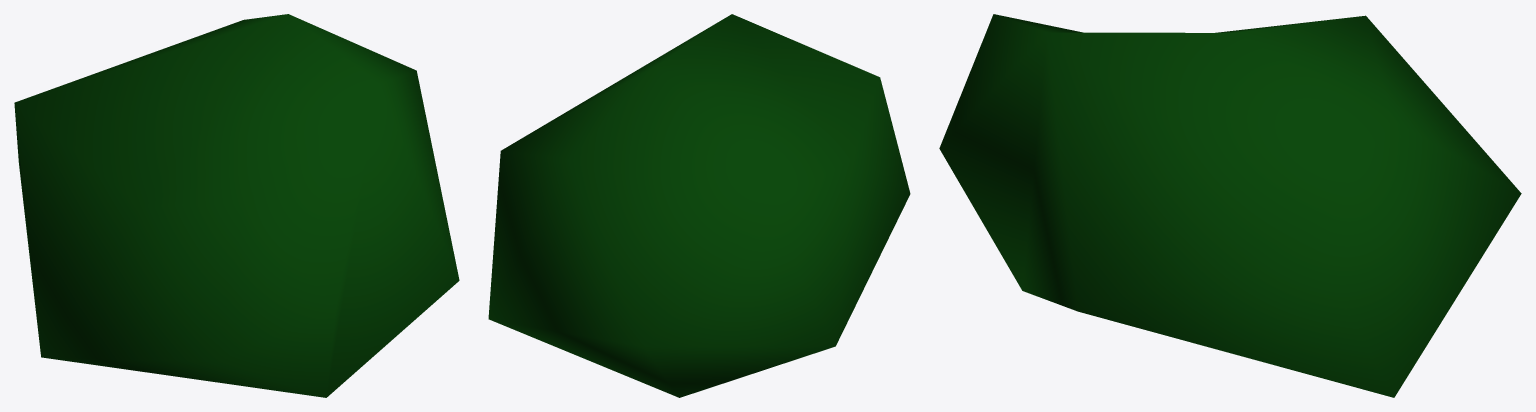
The model's file is Bush_N2.fbx.
3 renders of one model, left to right at view 1: azimuth 30°, elevation 25°; view 2: azimuth 150°, elevation 25°; view 3: azimuth 270°, elevation 25°, orthographic. The views are drawn at different scales.
Parts seen in each view (by area): view 1: previewTree; view 2: previewTree; view 3: previewTree.
Part boxes in pixels (x1,y1,x2,y2): previewTree: (14,14,459,397); previewTree: (488,14,910,397); previewTree: (939,14,1521,397).
Size of the model in its own units: 16.04 by 13.97 by 20.05.
